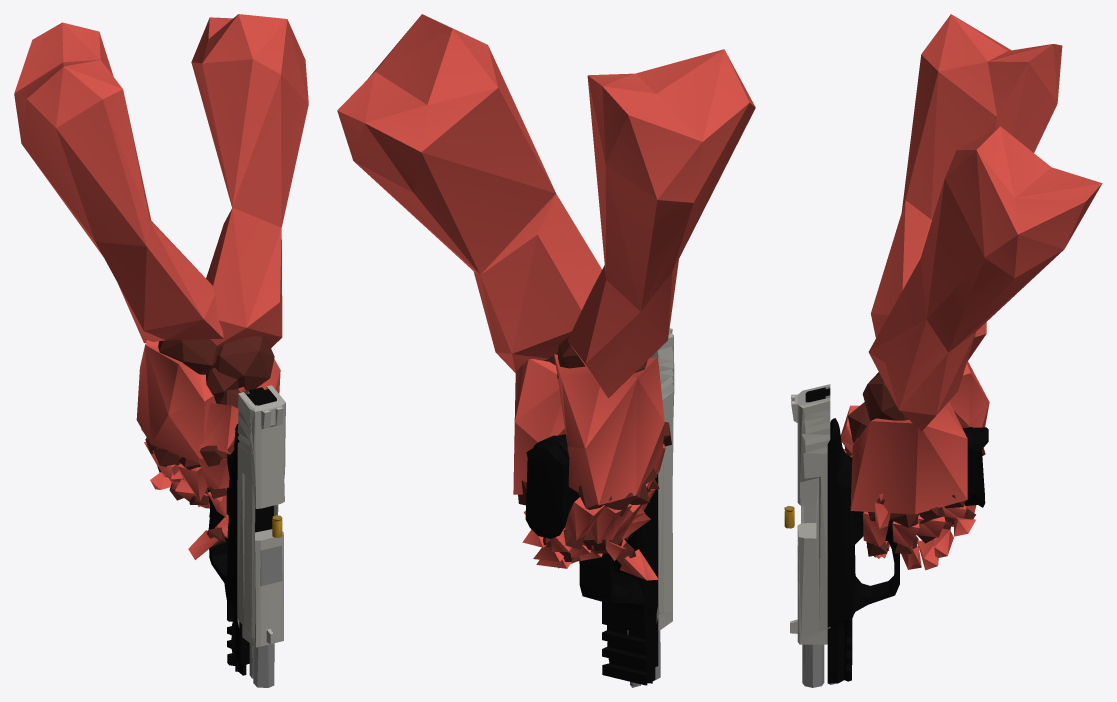
Rendered from M&P9shoot3LowP_000204.obj.
The picture shows the model from 3 angles, left to right: view 1: azimuth 30°, elevation 25°; view 2: azimuth 150°, elevation 25°; view 3: azimuth 270°, elevation 25°; orthographic projection. The views are drawn at different scales.
Parts seen in each view (by area): view 1: Beta_Surface.001_Beta_Surface.002, slide_平面.002, Beta_Joints.001_Beta_Joints.002, triger_平面.001; view 2: Beta_Surface.001_Beta_Surface.002, triger_平面.001, slide_平面.002, Beta_Joints.001_Beta_Joints.002; view 3: Beta_Surface.001_Beta_Surface.002, triger_平面.001, slide_平面.002, Beta_Joints.001_Beta_Joints.002.
Part boxes in pixels (bbox=[...]): Beta_Surface.001_Beta_Surface.002: bbox=[14, 14, 308, 559]; slide_平面.002: bbox=[237, 385, 285, 647]; Beta_Joints.001_Beta_Joints.002: bbox=[140, 335, 274, 546]; triger_平面.001: bbox=[207, 424, 282, 687]; Beta_Surface.001_Beta_Surface.002: bbox=[337, 14, 755, 580]; triger_平面.001: bbox=[525, 434, 660, 687]; slide_平面.002: bbox=[627, 328, 674, 634]; Beta_Joints.001_Beta_Joints.002: bbox=[518, 336, 671, 568]; Beta_Surface.001_Beta_Surface.002: bbox=[840, 14, 1102, 570]; triger_平面.001: bbox=[797, 418, 988, 687]; slide_平面.002: bbox=[790, 384, 830, 644]; Beta_Joints.001_Beta_Joints.002: bbox=[844, 372, 985, 557].
Size of the model in its own units: 42.47 by 80.1 by 38.2.
